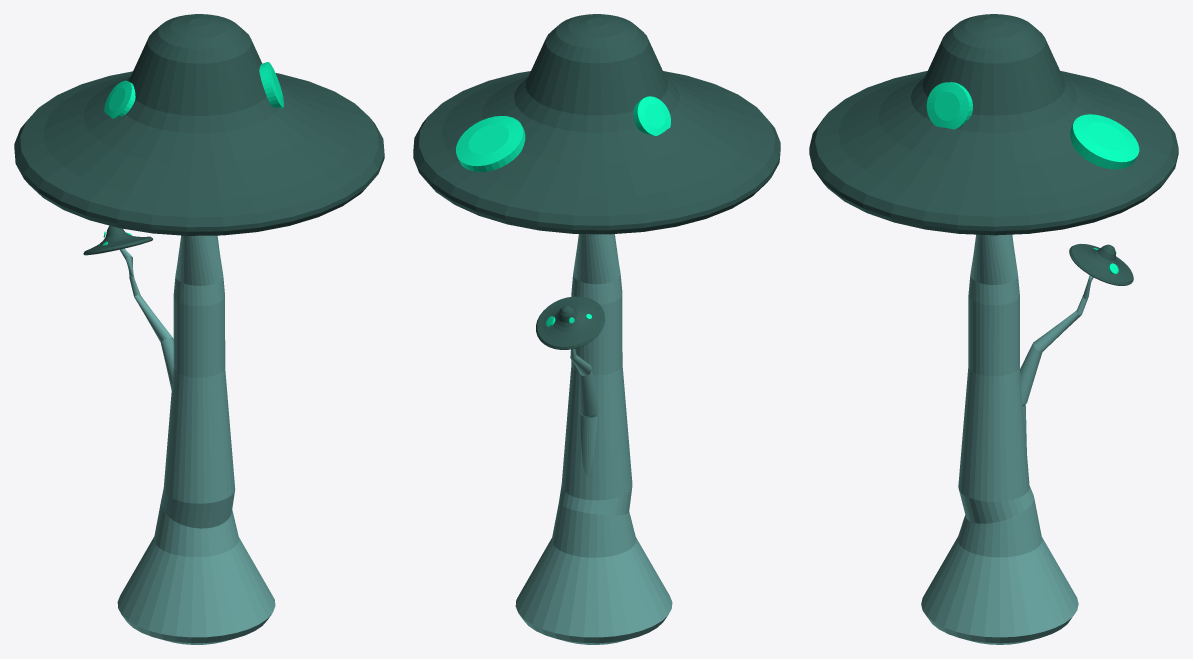
Rendered from MUSHROOMS.fbx.
3 views of the same model, side by side, from view 1: azimuth 30°, elevation 25°; view 2: azimuth 150°, elevation 25°; view 3: azimuth 270°, elevation 25° (orthographic).
Visible parts, largest first — view 1: Cylinder, Cylinder.001; view 2: Cylinder, Cylinder.001; view 3: Cylinder, Cylinder.001.
Part boxes in pixels (x1=…): Cylinder: x1=14, y1=14, x2=384, y2=644; Cylinder.001: x1=102, y1=62, x2=283, y2=245; Cylinder: x1=413, y1=14, x2=780, y2=644; Cylinder.001: x1=456, y1=96, x2=670, y2=326; Cylinder: x1=809, y1=14, x2=1178, y2=644; Cylinder.001: x1=926, y1=82, x2=1139, y2=274.
Size of the model in its own units: 1036 by 1858 by 1036.
